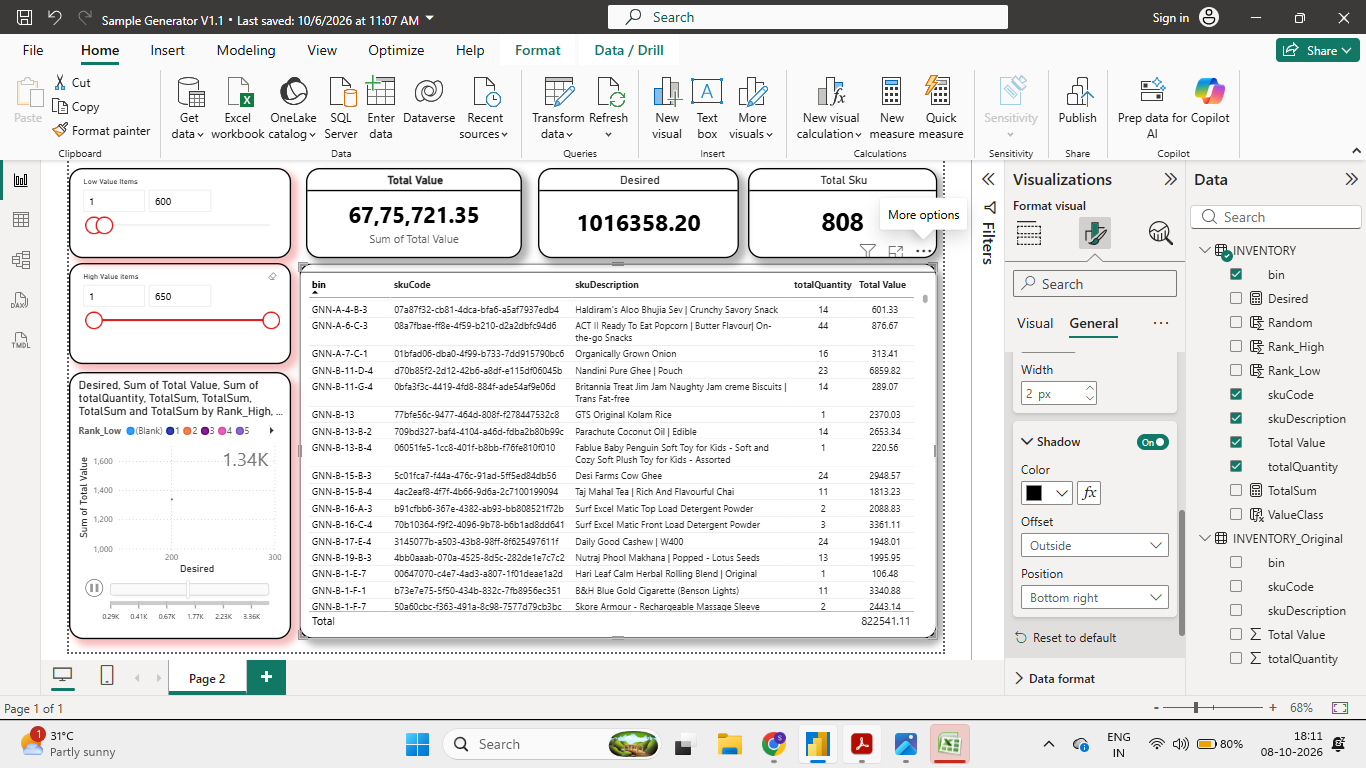

The page's visual inventory and layout, read from the dashboard file:
{"tool":"powerbi","page":{"name":"Page 2","canvas":[1280,720],"ordinal":1},"visuals":[{"type":"slicer","fields":{"Values":["INVENTORY_BY_SKU_BIN_LPN_DOWNLO.Rank_High"]},"box":[368.6,0,333.6,99.2],"z":0},{"type":"slicer","fields":{"Values":["INVENTORY_BY_SKU_BIN_LPN_DOWNLO.Rank_Low"]},"box":[702.2,0,373.5,99.2],"z":1000},{"type":"tableEx","fields":{"Values":["INVENTORY_BY_SKU_BIN_LPN_DOWNLO.bin","INVENTORY_BY_SKU_BIN_LPN_DOWNLO.skuCode","INVENTORY_BY_SKU_BIN_LPN_DOWNLO.skuDescription","Sum(INVENTORY_BY_SKU_BIN_LPN_DOWNLO.totalQuantity)","Sum(INVENTORY_BY_SKU_BIN_LPN_DOWNLO.Total Value)"]},"box":[0,98.4,1278.9,621.6],"z":2000},{"type":"card","title":"Total Value","fields":{"Values":["Sum(INVENTORY_Original.Total Value)"]},"box":[0,0,205.2,99.2],"z":3000},{"type":"card","title":"Total Sku","fields":{"Values":["CountNonNull(INVENTORY_BY_SKU_BIN_LPN_DOWNLO.skuCode)"]},"box":[204.8,0,164,99.3],"z":4000},{"type":"card","title":"Desired","fields":{"Values":["INVENTORY_BY_SKU_BIN_LPN_DOWNLO.Desired"]},"box":[1075.7,0,204.3,99.2],"z":5000}]}

Visuals, with their boxes on the page's 1280x720 design canvas (x1, y1, x2, y2). These are canvas units, not pixel positions in the 1366x768 screenshot, which may show the page scaled, cropped or inside an application window:
slicer - INVENTORY_BY_SKU_BIN_LPN_DOWNLO.Rank_High: [left=369, top=0, right=702, bottom=99]
slicer - INVENTORY_BY_SKU_BIN_LPN_DOWNLO.Rank_Low: [left=702, top=0, right=1076, bottom=99]
tableEx - INVENTORY_BY_SKU_BIN_LPN_DOWNLO.bin x INVENTORY_BY_SKU_BIN_LPN_DOWNLO.skuCode: [left=0, top=98, right=1279, bottom=720]
"Total Value" card: [left=0, top=0, right=205, bottom=99]
"Total Sku" card: [left=205, top=0, right=369, bottom=99]
"Desired" card: [left=1076, top=0, right=1280, bottom=99]
